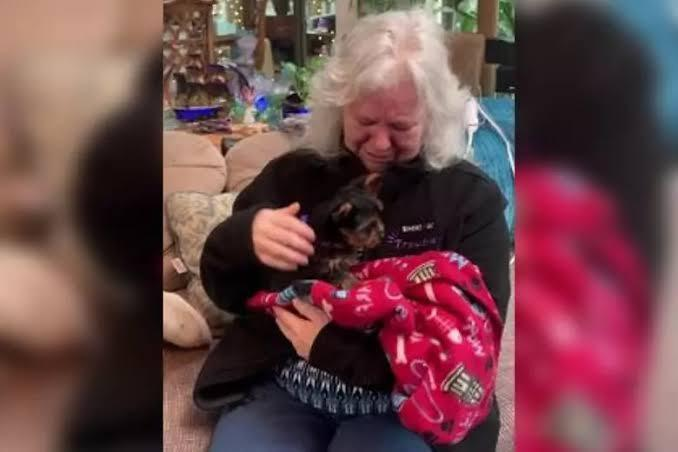non-dog: (191, 10, 513, 452)
puppy-dog: (301, 173, 390, 284)
